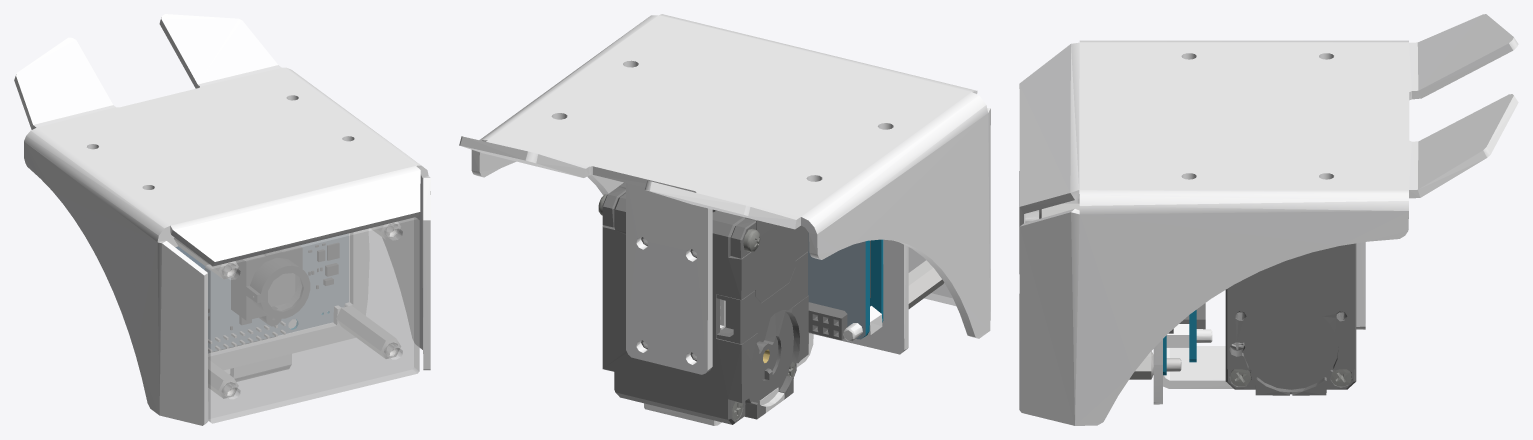
The model's file is head.fbx.
3 views of the same model, side by side, from view 1: azimuth 30°, elevation 25°; view 2: azimuth 150°, elevation 25°; view 3: azimuth 270°, elevation 25° (orthographic). The views are drawn at different scales.
Visible parts, largest first — view 1: head; view 2: head; view 3: head.
Boxes of the visible parts, x1,y1,x2,y2 form: head: (14,14,430,425); head: (459,14,990,425); head: (1019,14,1518,425).
Bounding box in the file's own units: 8418 × 7358 × 10902.
